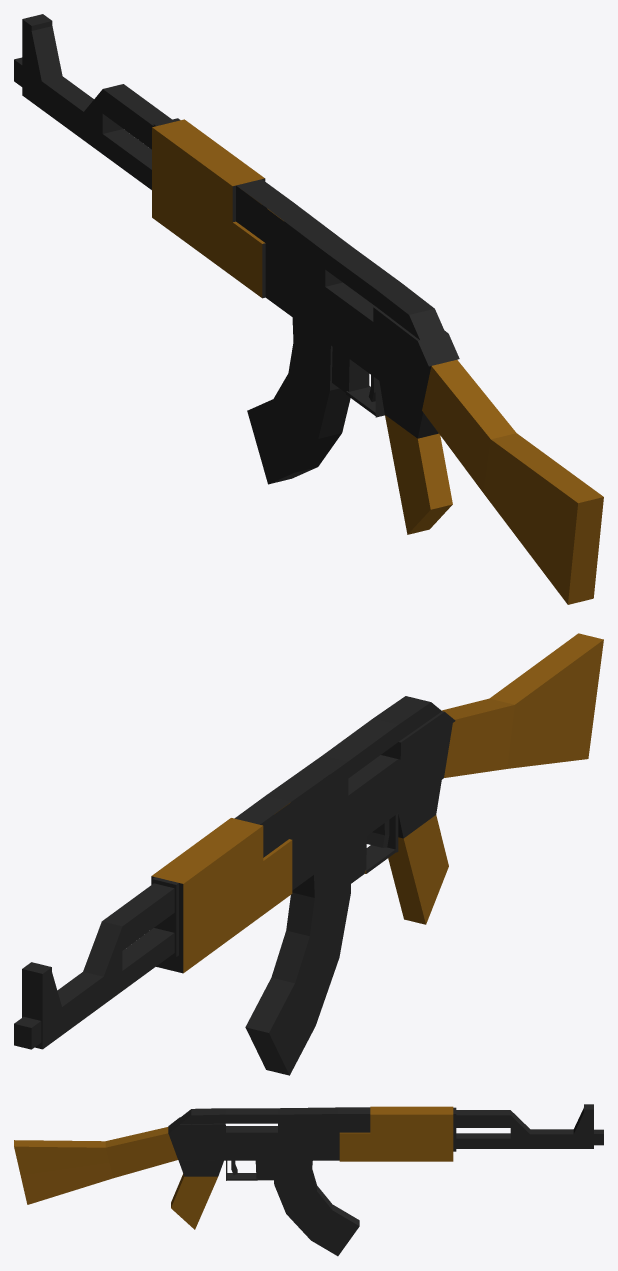
3 renders of one model, top to bottom at view 1: azimuth 30°, elevation 25°; view 2: azimuth 150°, elevation 25°; view 3: azimuth 270°, elevation 25°, orthographic. The views are drawn at different scales.
Parts seen in each view (by area): view 1: Cube; view 2: Cube; view 3: Cube.
Boxes of the visible parts, box(x1,y1,x2,y2) form: Cube: box(14, 14, 603, 604); Cube: box(14, 633, 603, 1075); Cube: box(14, 1104, 603, 1256).
Size of the model in its own units: 28.71 by 240 by 875.
